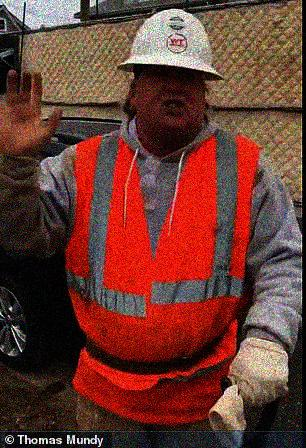helmet: (114, 7, 226, 132)
